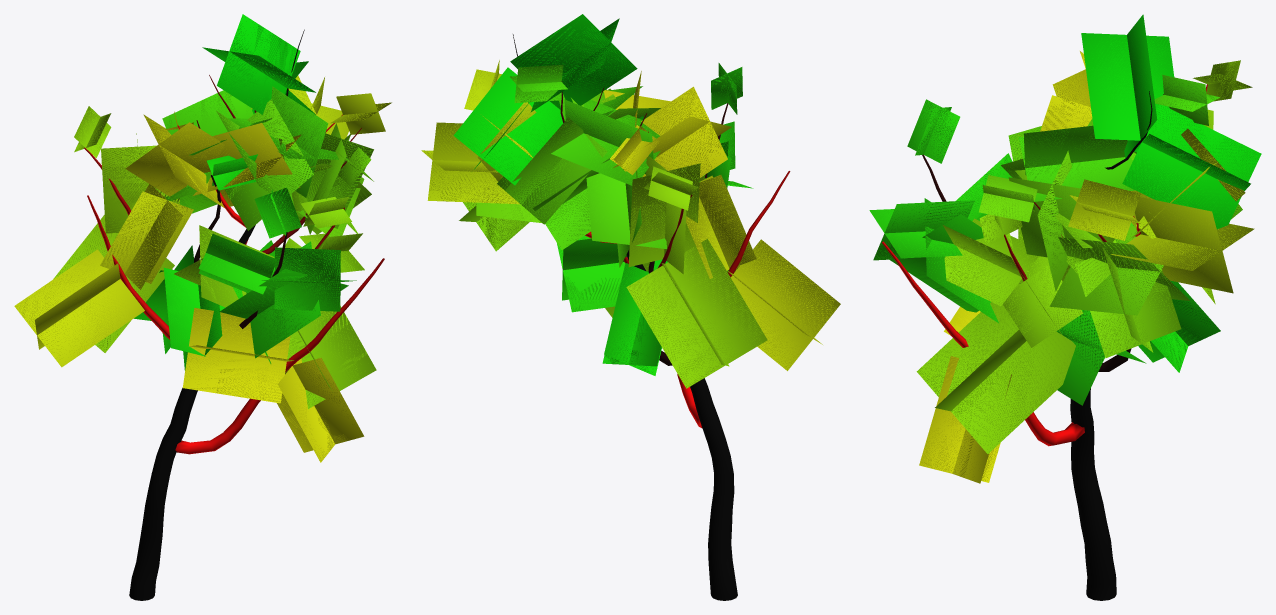
Rendered from Type_1_Tree_11.fbx.
3 views of the same model, side by side, from view 1: azimuth 30°, elevation 25°; view 2: azimuth 150°, elevation 25°; view 3: azimuth 270°, elevation 25° (orthographic). The views are drawn at different scales.
Parts seen in each view (by area): view 1: Leaf, Trunk; view 2: Leaf, Trunk; view 3: Leaf, Trunk.
Boxes of the visible parts, x1,y1,x2,y2 form: Leaf: (14, 14, 391, 462); Trunk: (84, 29, 384, 600); Leaf: (421, 14, 840, 388); Trunk: (513, 34, 790, 600); Leaf: (869, 14, 1261, 483); Trunk: (882, 84, 1207, 600).
Size of the model in its own units: 2399 by 3423 by 1873.
